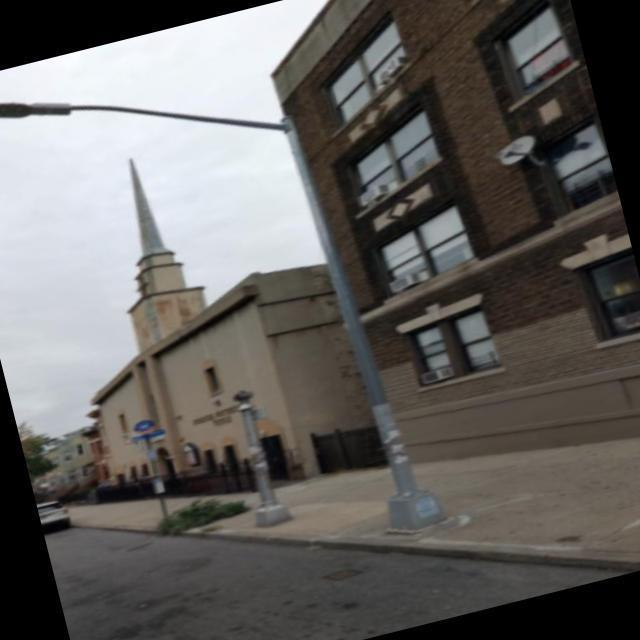off: (3, 88, 100, 153)
